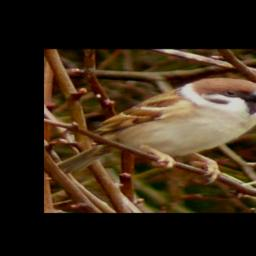Sparrow: (55, 77, 256, 184)
